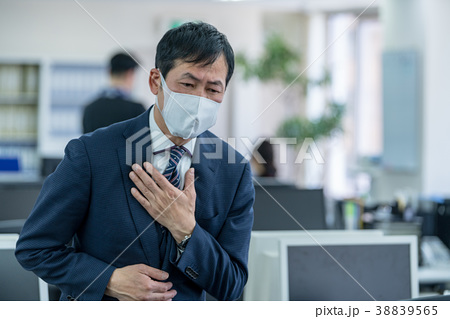mask: (161, 91, 222, 147)
